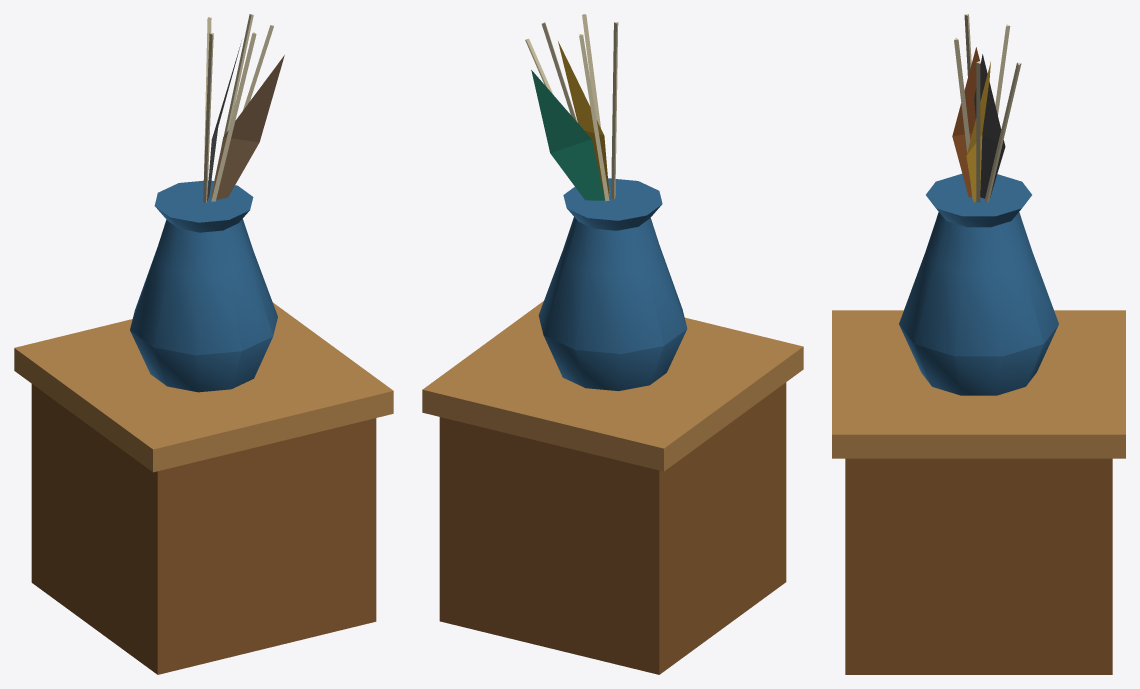
Rendered from feathers_display.glb.
3 renders of one model, left to right at view 1: azimuth 30°, elevation 25°; view 2: azimuth 150°, elevation 25°; view 3: azimuth 270°, elevation 25°, orthographic. The views are drawn at different scales.
Parts seen in each view (by area): view 1: decor-feathers_display; view 2: decor-feathers_display; view 3: decor-feathers_display.
Boxes of the visible parts, x1,y1,x2,y2 form: decor-feathers_display: [14, 14, 393, 674]; decor-feathers_display: [422, 14, 803, 674]; decor-feathers_display: [832, 14, 1125, 674].
Bounding box in the file's own units: 0.66 × 1.5 × 0.66.
